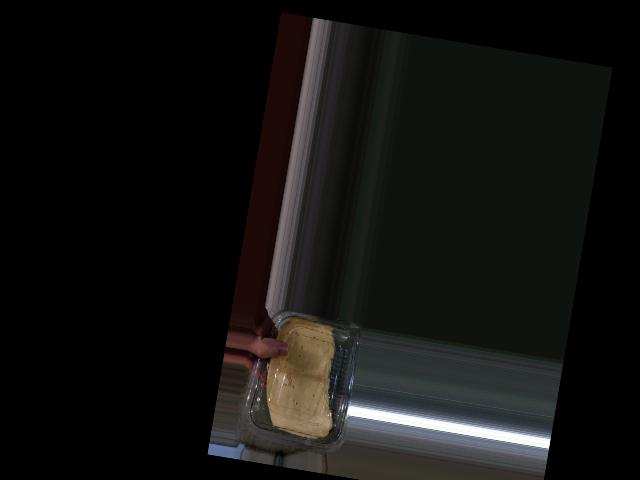cheese: (249, 307, 364, 456)
